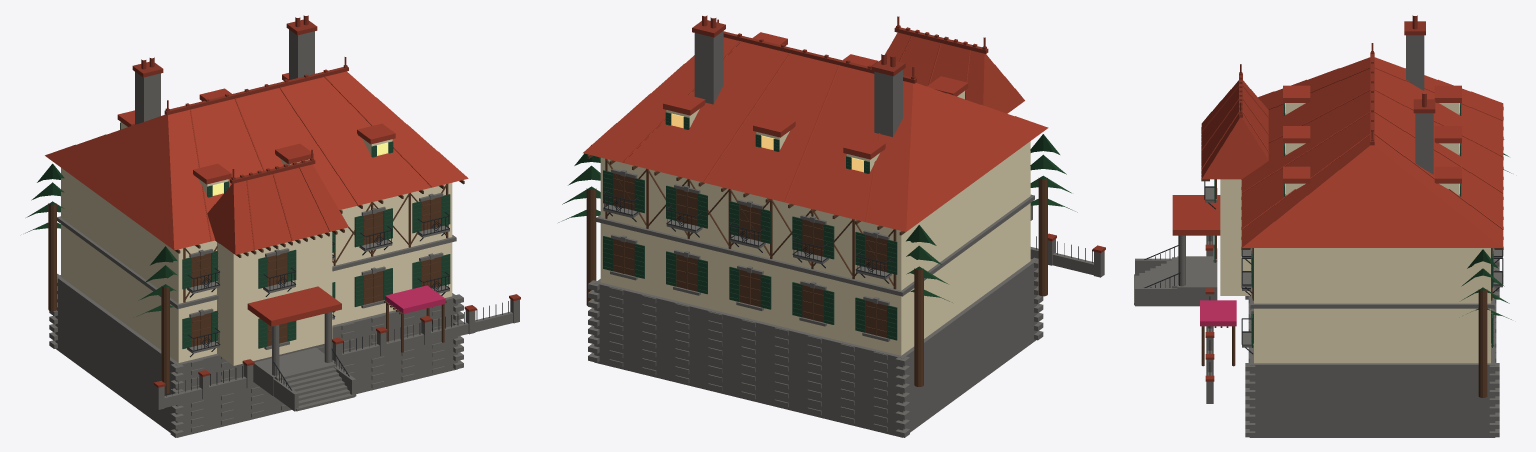
File: fv_hv_11_hung_vuong_governor_chalet.glb
The picture shows the model from 3 angles, left to right: view 1: azimuth 30°, elevation 25°; view 2: azimuth 150°, elevation 25°; view 3: azimuth 270°, elevation 25°; orthographic projection. The views are drawn at different scales.
Parts seen in each view (by area): view 1: marseille_corrugated_roof_tiles, granite_foundation_and_stairs, stucco_facade_and_dormers, colombage_timber_and_eaves, pine_green_louvered_shutters, ridge_cresting_and_chimneys, wrought_iron_balconies_3d, pine_trees_and_garden_hedges, bougainvillea_pergola_clusters; view 2: marseille_corrugated_roof_tiles, granite_foundation_and_stairs, stucco_facade_and_dormers, colombage_timber_and_eaves, pine_green_louvered_shutters, ridge_cresting_and_chimneys, pine_trees_and_garden_hedges, wrought_iron_balconies_3d; view 3: marseille_corrugated_roof_tiles, stucco_facade_and_dormers, granite_foundation_and_stairs, colombage_timber_and_eaves, ridge_cresting_and_chimneys, bougainvillea_pergola_clusters, wrought_iron_balconies_3d, pine_trees_and_garden_hedges, pine_green_louvered_shutters.
Boxes of the visible parts, x1,y1,x2,y2 form: marseille_corrugated_roof_tiles: [45, 71, 468, 326]; granite_foundation_and_stairs: [49, 29, 519, 437]; stucco_facade_and_dormers: [61, 122, 452, 365]; colombage_timber_and_eaves: [48, 180, 464, 393]; pine_green_louvered_shutters: [120, 122, 450, 348]; ridge_cresting_and_chimneys: [132, 15, 520, 387]; wrought_iron_balconies_3d: [166, 212, 508, 396]; pine_trees_and_garden_hedges: [25, 163, 177, 316]; bougainvillea_pergola_clusters: [385, 285, 445, 313]; marseille_corrugated_roof_tiles: [583, 32, 1048, 231]; granite_foundation_and_stairs: [588, 31, 1104, 437]; stucco_facade_and_dormers: [600, 91, 1030, 355]; colombage_timber_and_eaves: [586, 155, 1047, 386]; pine_green_louvered_shutters: [603, 91, 965, 340]; ridge_cresting_and_chimneys: [692, 15, 1105, 252]; pine_trees_and_garden_hedges: [558, 134, 1077, 302]; wrought_iron_balconies_3d: [603, 190, 1092, 283]; marseille_corrugated_roof_tiles: [1172, 57, 1503, 247]; stucco_facade_and_dormers: [1220, 103, 1490, 363]; granite_foundation_and_stairs: [1134, 35, 1502, 437]; colombage_timber_and_eaves: [1201, 107, 1503, 397]; ridge_cresting_and_chimneys: [1205, 15, 1435, 381]; bougainvillea_pergola_clusters: [1200, 300, 1236, 326]; wrought_iron_balconies_3d: [1144, 181, 1503, 375]; pine_trees_and_garden_hedges: [1461, 139, 1511, 319]; pine_green_louvered_shutters: [1214, 103, 1493, 347].
Size of the model in its own units: 25.1 by 20.13 by 22.91.
